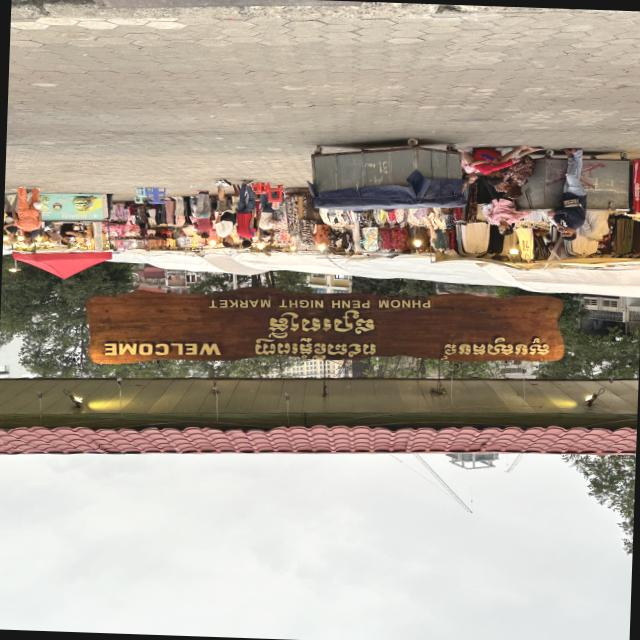Yolov11kh: (259, 310, 384, 335), (247, 337, 381, 359), (435, 338, 553, 362)
